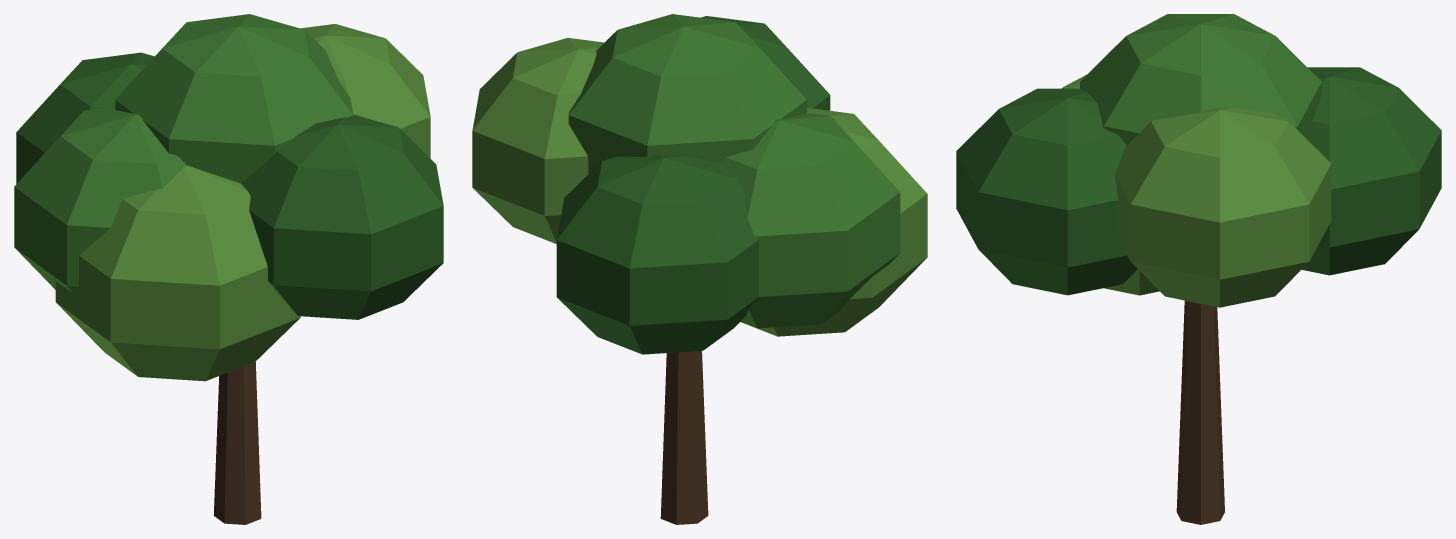
The model's file is oak-low-poly-a.glb.
3 renders of one model, left to right at view 1: azimuth 30°, elevation 25°; view 2: azimuth 150°, elevation 25°; view 3: azimuth 270°, elevation 25°, orthographic.
Parts seen in each view (by area): view 1: oak-a; view 2: oak-a; view 3: oak-a.
Part boxes in pixels (bbox=[...]): oak-a: bbox=[14, 14, 443, 524]; oak-a: bbox=[472, 14, 927, 524]; oak-a: bbox=[956, 14, 1441, 524].
Size of the model in its own units: 6.54 by 7.85 by 7.04.
